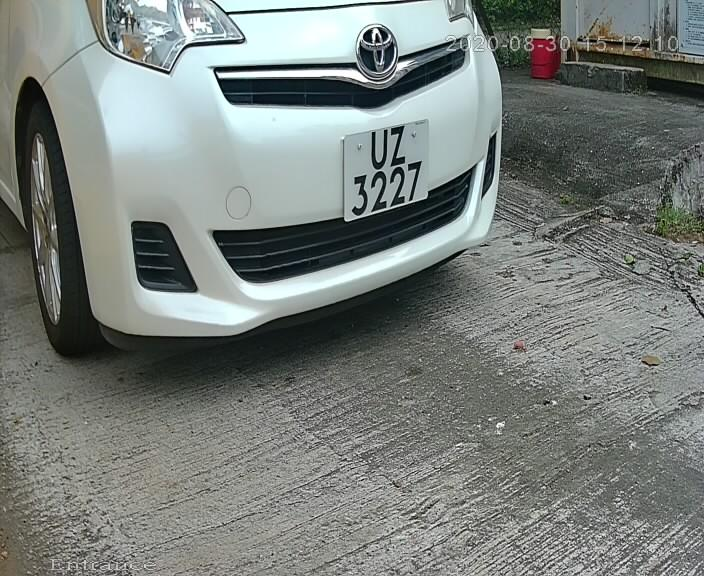License Plate: (331, 106, 437, 235)
